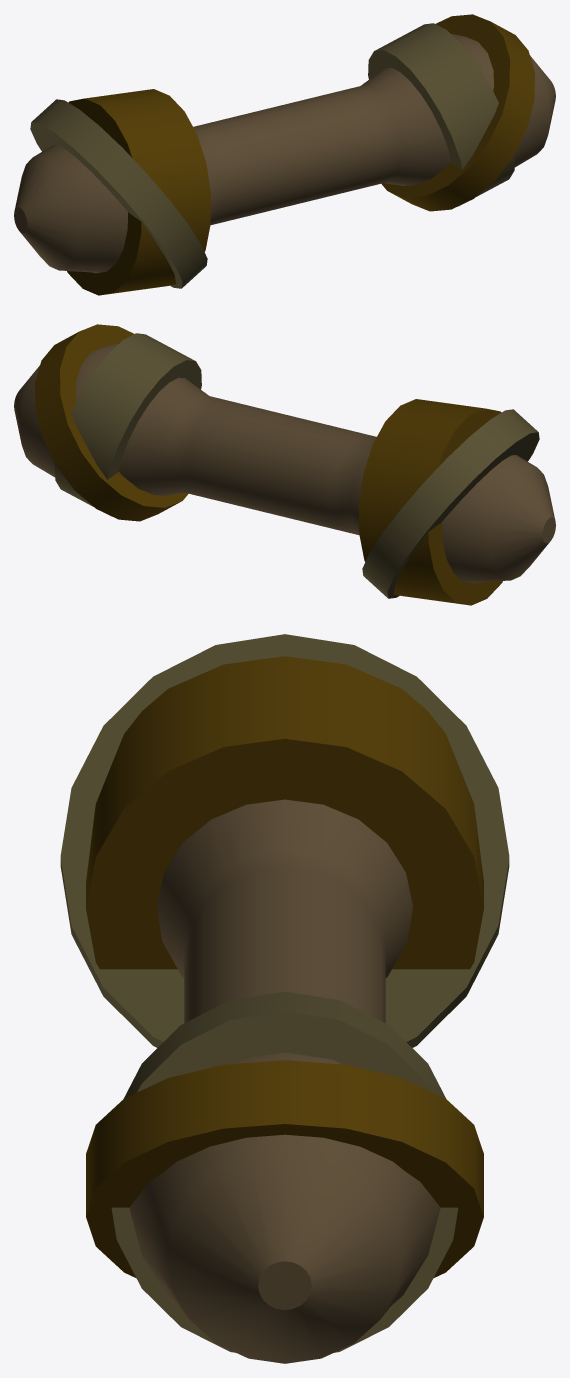
The model's file is Chewing Bone.fbx.
3 renders of one model, top to bottom at view 1: azimuth 30°, elevation 25°; view 2: azimuth 150°, elevation 25°; view 3: azimuth 270°, elevation 25°, orthographic. The views are drawn at different scales.
Parts seen in each view (by area): view 1: pCylinder3, pCylinder2, polySurface3, polySurface2, polySurface4, polySurface1; view 2: pCylinder3, pCylinder2, polySurface3, polySurface2, polySurface4, polySurface1; view 3: polySurface3, pCylinder2, polySurface2, pCylinder3, polySurface4, polySurface1.
Boxes of the visible parts, <box> form: pCylinder3: <box>14,107,314,273</box>; pCylinder2: <box>267,34,555,202</box>; polySurface3: <box>67,89,210,295</box>; polySurface2: <box>381,14,534,211</box>; polySurface4: <box>30,99,207,288</box>; polySurface1: <box>368,23,514,205</box>; pCylinder3: <box>264,415,555,583</box>; pCylinder2: <box>14,344,292,514</box>; polySurface3: <box>359,399,502,605</box>; polySurface2: <box>35,324,188,521</box>; polySurface4: <box>362,409,539,598</box>; polySurface1: <box>55,333,201,515</box>; polySurface3: <box>86,656,483,969</box>; pCylinder2: <box>129,932,440,1363</box>; polySurface2: <box>86,1060,483,1277</box>; pCylinder3: <box>157,799,412,1022</box>; polySurface4: <box>60,634,509,1047</box>; polySurface1: <box>111,991,458,1352</box>.
Bounding box in the file's own units: 12.12 × 4.13 × 4.46.
